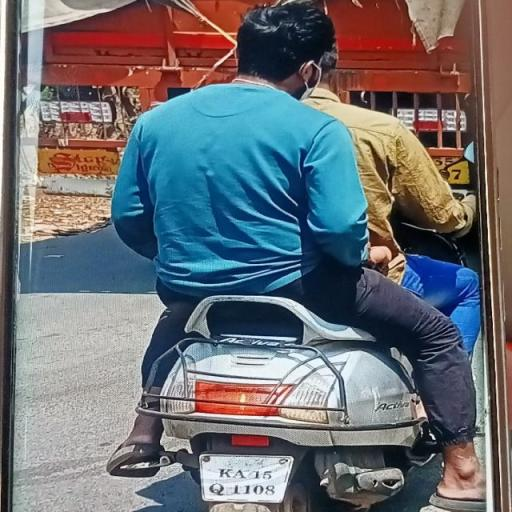bike: (90, 1, 483, 512)
numberplate: (197, 456, 285, 502)
withouthelmet: (240, 2, 332, 76)
